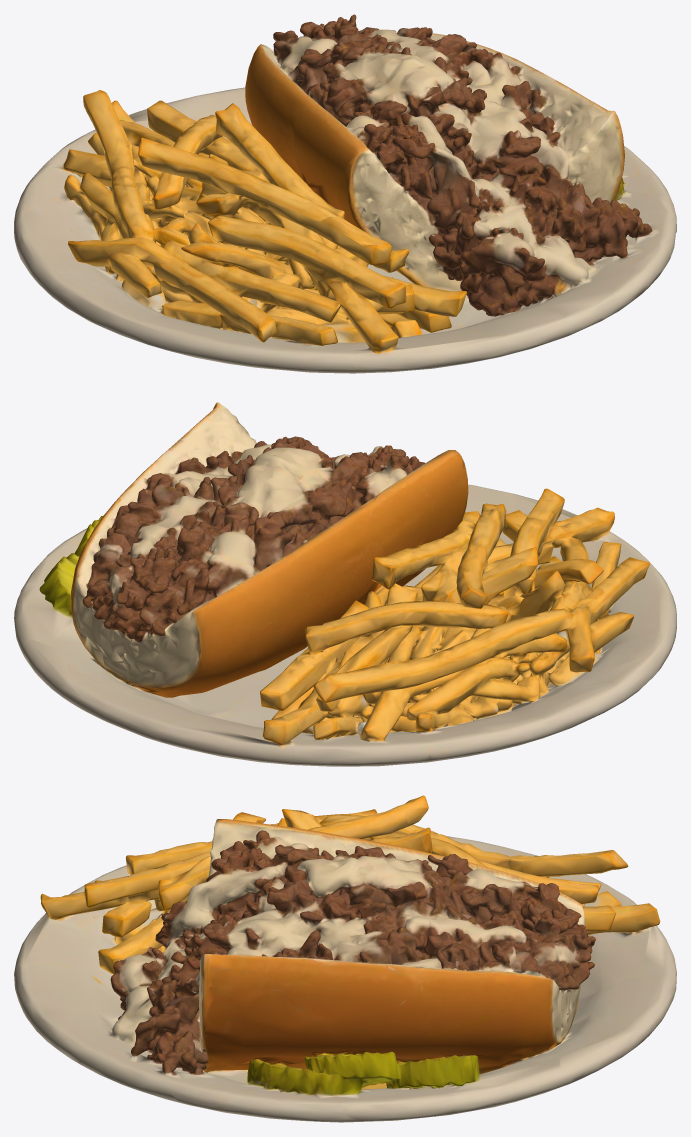
Rendered from cheesesteak-special-draco.glb.
The picture shows the model from 3 angles, top to bottom: view 1: azimuth 30°, elevation 25°; view 2: azimuth 150°, elevation 25°; view 3: azimuth 270°, elevation 25°; orthographic projection.
Visible parts, largest first — view 1: mesh_node; view 2: mesh_node; view 3: mesh_node.
Boxes of the visible parts, x1=… form: mesh_node: x1=14, y1=14, x2=676, y2=373; mesh_node: x1=14, y1=402, x2=676, y2=766; mesh_node: x1=14, y1=795, x2=676, y2=1122.
Size of the model in its own units: 0.3521 by 0.1197 by 0.3523.
1 material, 1 textured.
